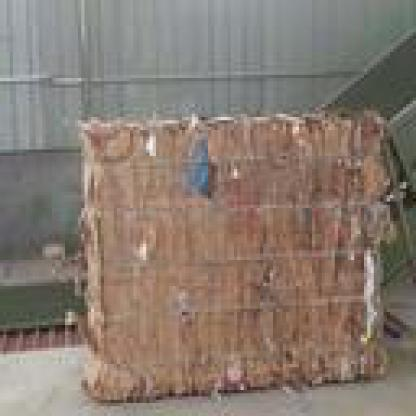CARDBOARD: (81, 111, 387, 400)
